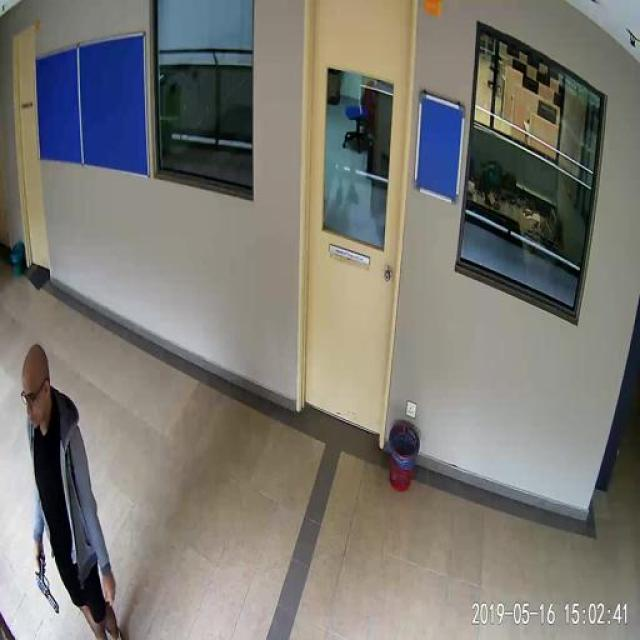Gun: (22, 553, 66, 622)
